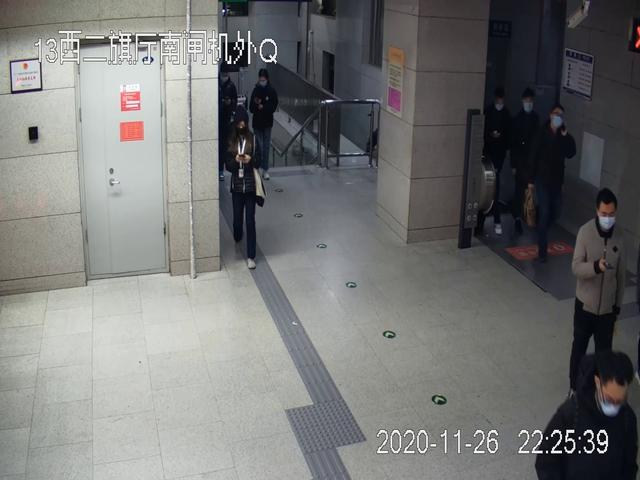person: (568, 186, 640, 394), (525, 101, 577, 257), (226, 105, 267, 271), (250, 67, 277, 179)
